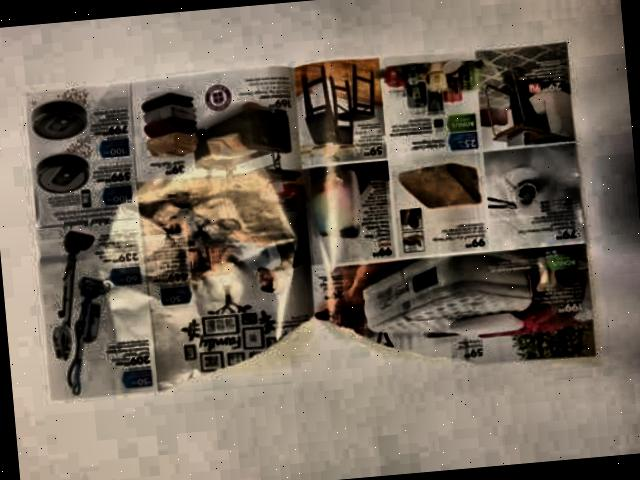Paper: (13, 15, 618, 422)
